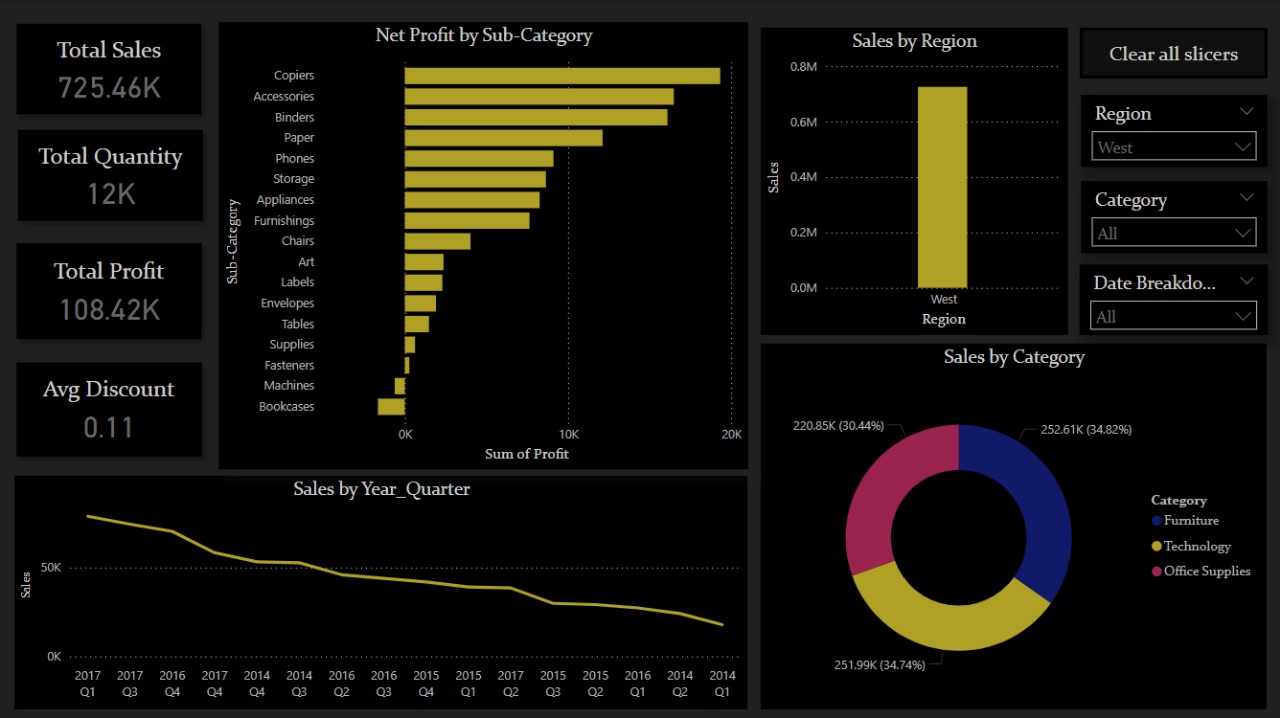

This screenshot's page, from the dashboard's own definition file:
{"tool":"powerbi","page":{"name":"Supermarket Sales Dashboard","canvas":[1280,720],"ordinal":0},"visuals":[{"type":"cardVisual","fields":{"Data":["Sum(Superstore Sales.Sales)"]},"box":[0,6.5,219.6,125.2],"z":0},{"type":"cardVisual","fields":{"Data":["Sum(Superstore Sales.Quantity)"]},"box":[1.6,113.9,219.6,125.2],"z":1000},{"type":"lineChart","title":"Sales by Year_Quarter","fields":{"Y":["Sum(Superstore_Sales.Sales)"],"Category":["Superstore_Sales.Year_Quarter"]},"box":[16.3,475,730.3,232.6],"z":2000},{"type":"clusteredColumnChart","fields":{"Category":["Superstore_Sales.Region"],"Y":["Sum(Superstore_Sales.Sales)"]},"box":[759.6,29.3,305.8,305.8],"z":3000},{"type":"donutChart","title":"Sales by Category","fields":{"Y":["Sum(Superstore_Sales.Sales)"],"Category":["Superstore_Sales.Category"]},"box":[759.6,343.2,504.2,364.3],"z":4000},{"type":"slicer","fields":{"Values":["Superstore_Sales.Region"]},"box":[1078.4,96,185.4,71.6],"z":5000},{"type":"slicer","fields":{"Values":["Superstore_Sales.Category"]},"box":[1078.4,182.2,185.4,71.6],"z":6000},{"type":"clusteredBarChart","title":"Net Profit by Sub-Category","fields":{"Category":["Superstore_Sales.Sub-Category"],"Y":["Sum(Superstore_Sales.Profit)"]},"box":[219.6,22.8,527,445.7],"z":7000},{"type":"cardVisual","fields":{"Data":["Sum(Superstore_Sales.Profit)"]},"box":[0,226.1,219.6,130.1],"z":8000},{"type":"cardVisual","fields":{"Data":["Superstore_Sales.Avg Discount"]},"box":[0,344.8,219.6,128.5],"z":9000},{"type":"slicer","fields":{"Values":["Superstore_Sales.Order Date.Variation.Date Hierarchy.Year","Superstore_Sales.Order Date.Variation.Date Hierarchy.Quarter","Superstore_Sales.Order Date.Variation.Date Hierarchy.Month","Superstore_Sales.Order Date.Variation.Date Hierarchy.Day"]},"box":[1076.8,265.1,187.1,69.9],"z":10000},{"type":"actionButton","box":[1076.8,29.3,187.1,50.4],"z":13000}]}

Visuals, with their boxes in screenshot pixels (x1, y1, x2, y2), scaled from the page's 1280x720 canvas onto the 1280x718 screenshot:
cardVisual - Sum(Superstore Sales.Sales): rect(0, 6, 220, 131)
cardVisual - Sum(Superstore Sales.Quantity): rect(2, 114, 221, 238)
"Sales by Year_Quarter" lineChart: rect(16, 474, 747, 706)
clusteredColumnChart - Superstore_Sales.Region x Sum(Superstore_Sales.Sales): rect(760, 29, 1065, 334)
"Sales by Category" donutChart: rect(760, 342, 1264, 706)
slicer - Superstore_Sales.Region: rect(1078, 96, 1264, 167)
slicer - Superstore_Sales.Category: rect(1078, 182, 1264, 253)
"Net Profit by Sub-Category" clusteredBarChart: rect(220, 23, 747, 467)
cardVisual - Sum(Superstore_Sales.Profit): rect(0, 225, 220, 355)
cardVisual - Superstore_Sales.Avg Discount: rect(0, 344, 220, 472)
slicer - Superstore_Sales.Order Date.Variation.Date Hierarchy.Year x Superstore_Sales.Order Date.Variation.Date Hierarchy.Quarter: rect(1077, 264, 1264, 334)
actionButton: rect(1077, 29, 1264, 79)
